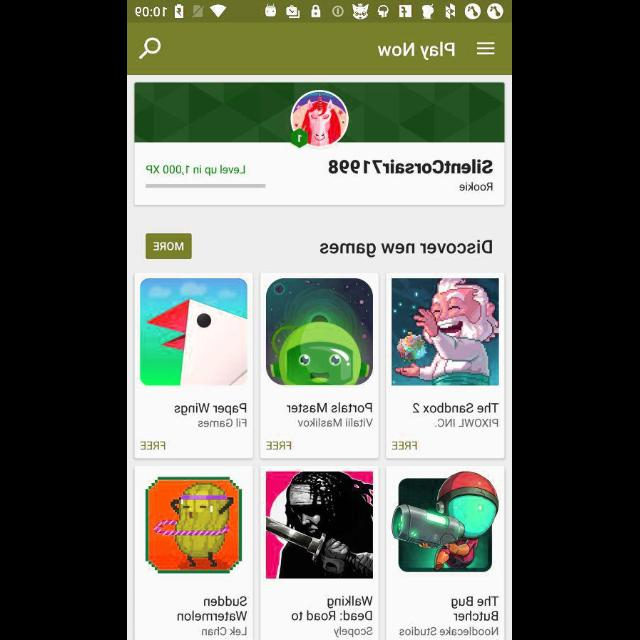icon: (140, 38, 162, 61), (476, 42, 496, 56)
image: (140, 278, 248, 386), (266, 278, 374, 386), (392, 278, 500, 386), (266, 472, 374, 578), (392, 472, 500, 572), (146, 476, 242, 574), (291, 91, 349, 149)
panel: (136, 83, 507, 207), (386, 273, 506, 459), (260, 273, 380, 459), (134, 273, 253, 459), (260, 465, 380, 639), (386, 466, 506, 640), (134, 466, 253, 640)
text: (321, 240, 493, 258), (329, 160, 493, 174), (292, 595, 374, 621), (178, 596, 248, 622), (378, 42, 456, 62), (452, 596, 500, 622), (147, 166, 246, 177), (399, 626, 498, 636), (412, 402, 500, 413), (175, 404, 247, 416), (287, 403, 373, 413), (299, 418, 373, 427), (435, 419, 499, 427), (334, 626, 374, 638), (202, 626, 248, 636), (198, 418, 248, 427), (460, 182, 494, 192), (140, 440, 166, 450), (266, 442, 292, 451), (392, 442, 418, 451)
textbutton: (146, 234, 194, 260)
toolbar: (128, 24, 512, 74)
uppertaskbar: (128, 1, 512, 23)
